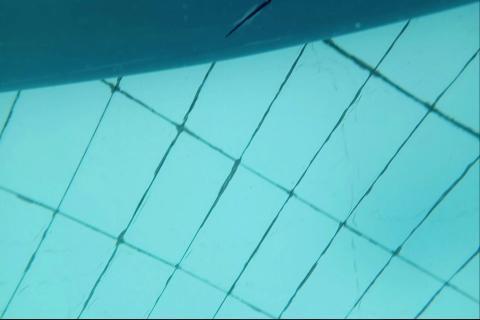keretakan: (226, 0, 272, 41)
